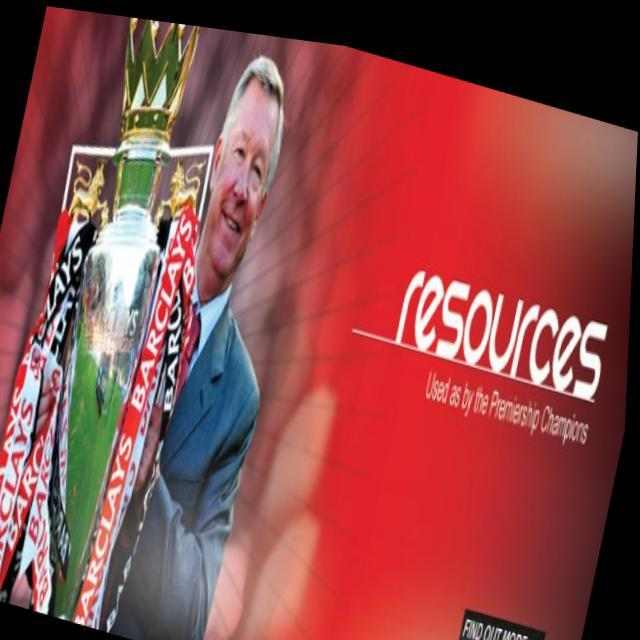Nonhelmet: (189, 52, 291, 301)
